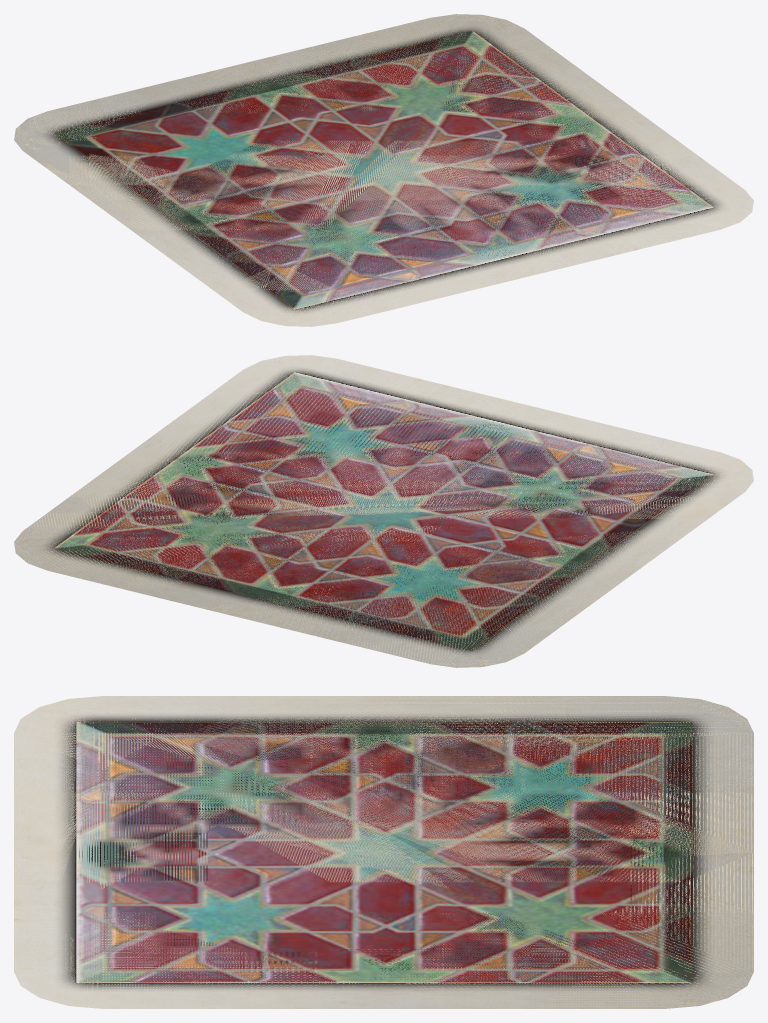
File: card21.fbx
The picture shows the model from 3 angles, top to bottom: view 1: azimuth 30°, elevation 25°; view 2: azimuth 150°, elevation 25°; view 3: azimuth 270°, elevation 25°; orthographic projection. The views are drawn at different scales.
Visible parts, largest first — view 1: polySurface1; view 2: polySurface1; view 3: polySurface1.
Boxes of the visible parts, x1=… form: polySurface1: x1=14, y1=14, x2=753, y2=326; polySurface1: x1=14, y1=355, x2=753, y2=667; polySurface1: x1=14, y1=696, x2=753, y2=1008.
Bounding box in the file's own units: 1 × 0 × 1.
